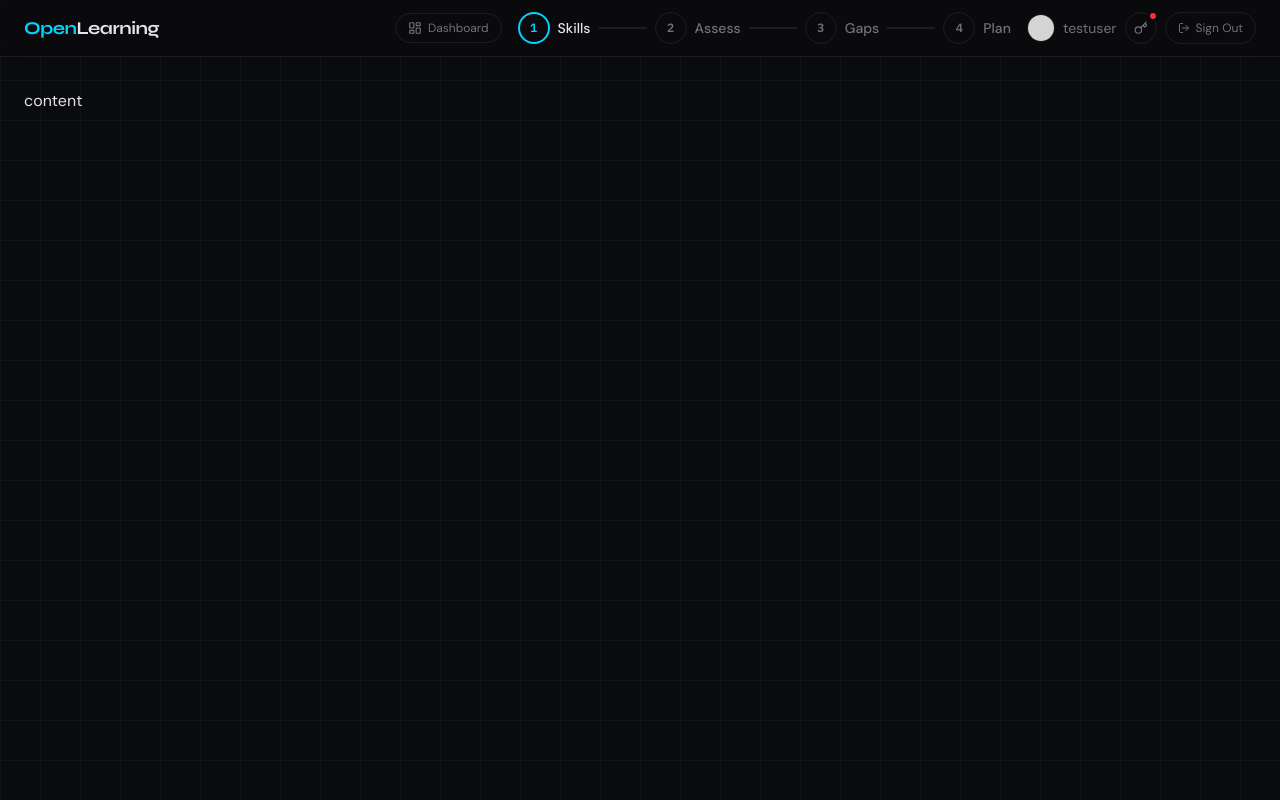
it: PageShell › opens API key setup dialog when key icon is clicked
Click the button named "API key settings". click: (1140, 28)
box: [1124,12,1156,44]
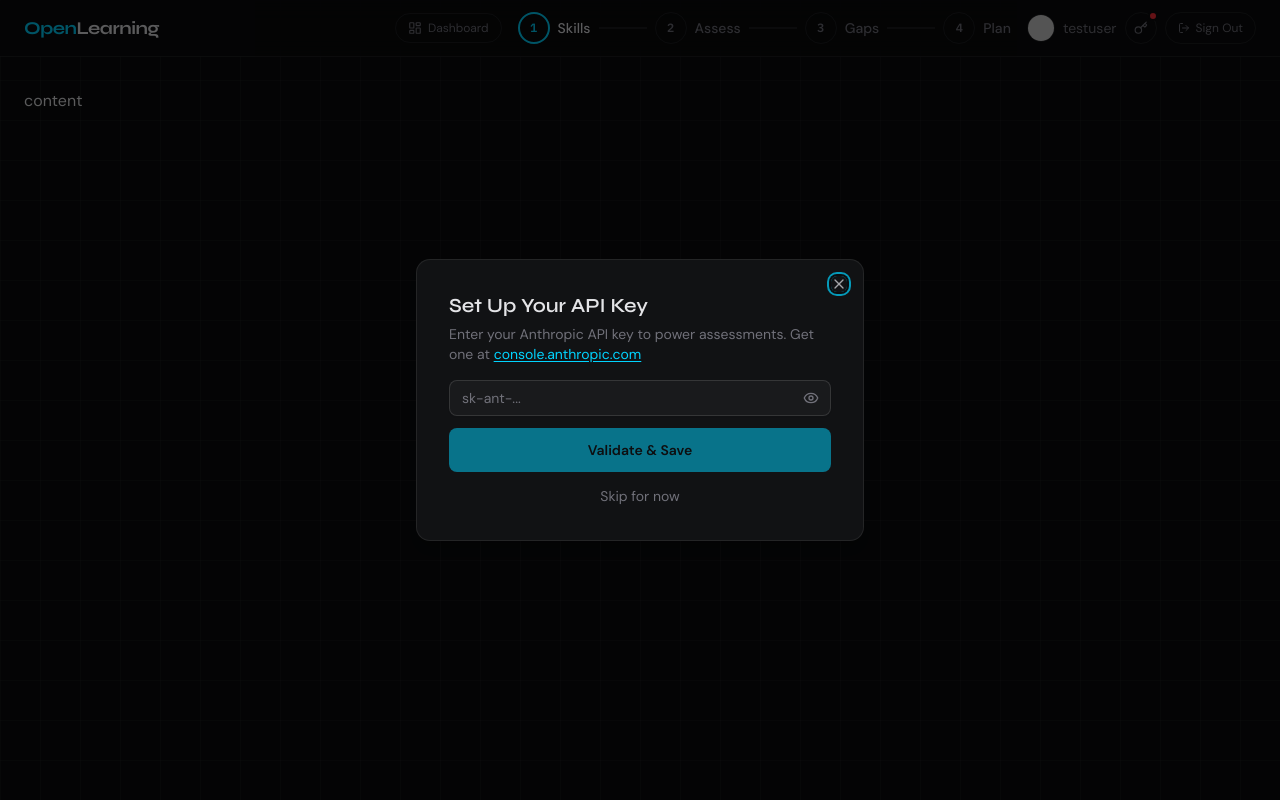
Expected: the heading "Set Up Your API Key" is shown, [449,293,648,318]
